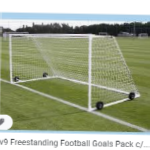goals: (7, 29, 141, 114)
